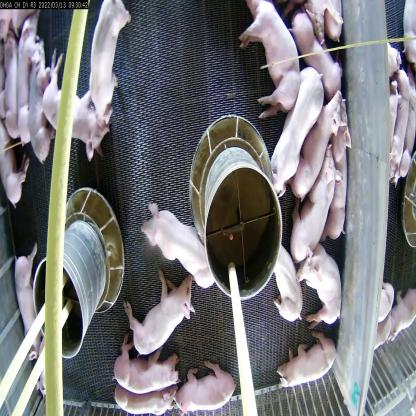Pig: (142, 181, 224, 292), (248, 0, 306, 122), (48, 52, 116, 154), (122, 272, 204, 348), (292, 146, 337, 263), (88, 0, 130, 118), (300, 88, 340, 205), (296, 235, 342, 318), (26, 30, 54, 160), (113, 344, 183, 393), (14, 252, 50, 345), (277, 335, 341, 385), (15, 15, 38, 148), (176, 367, 237, 415)
